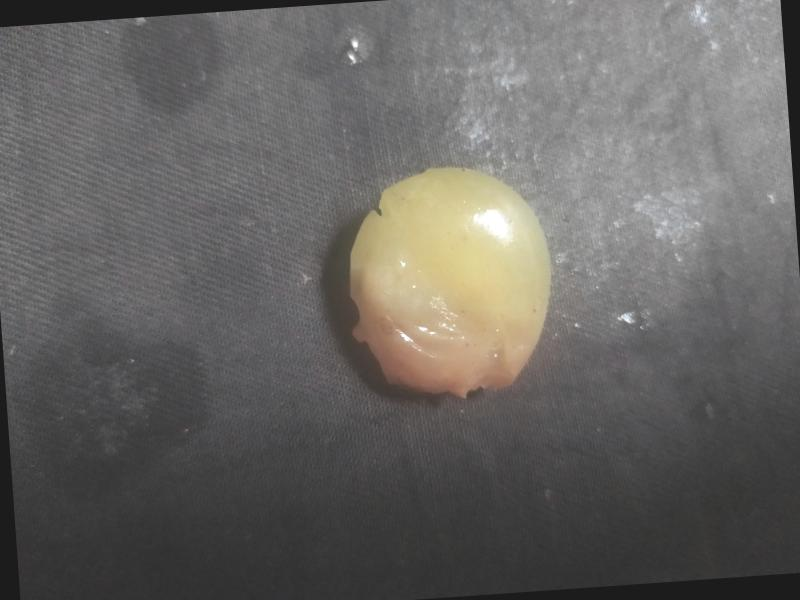Grape Overripe: (338, 157, 560, 408)
